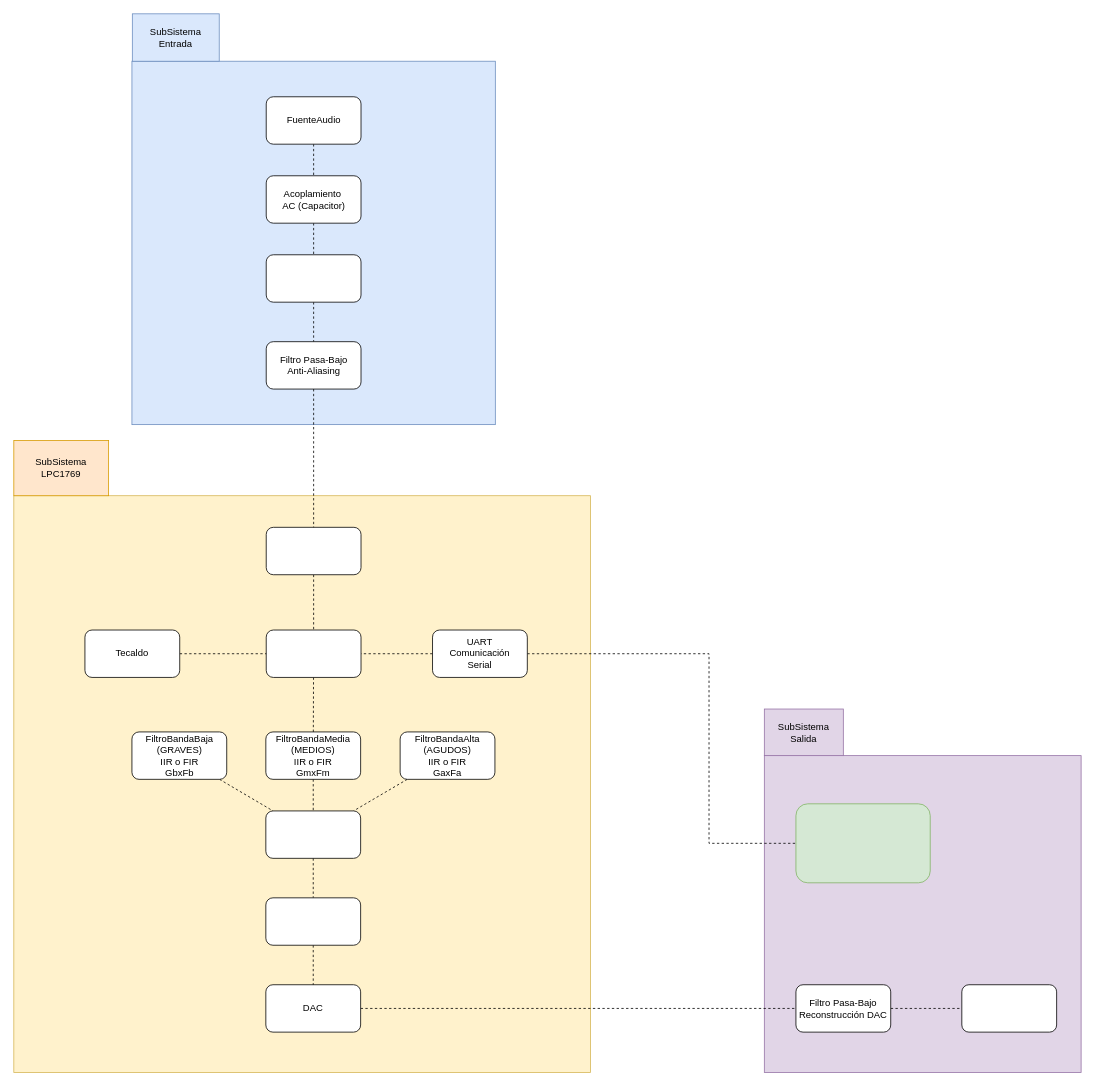
The diagram is 1095 pixels wide and 1086 high, and some of its shapes have lost their labels. The centre of each missing label's shape, as x and y in pixels:
"ADC" belongs at point (313, 551).
"Altavoz" belongs at point (1009, 1008).
"Computadora Monitor UART" belongs at point (862, 843).
"GPDMA" belongs at point (313, 921).
"Lógica De Control" belongs at point (313, 653).
"Nivel DC BIAS (DivisorResistivo)" belongs at point (313, 278).
"SumadoDeBandas" belongs at point (313, 834).
